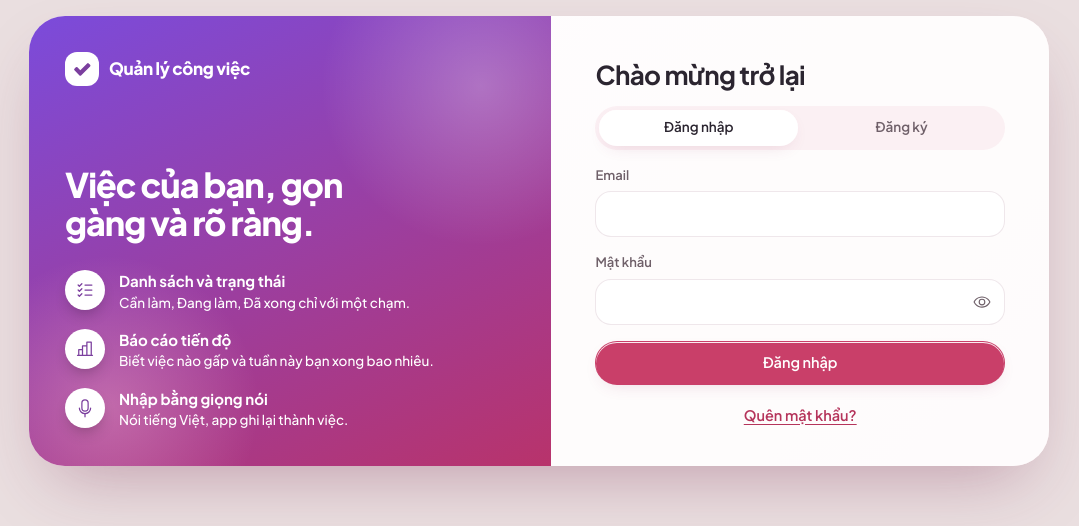
Test case: AuthPage › toggles password visibility
This screenshot has width=1079, height=526.
Click the button named "Hiện mật khẩu". click: (982, 302)
box: [965,285,999,319]
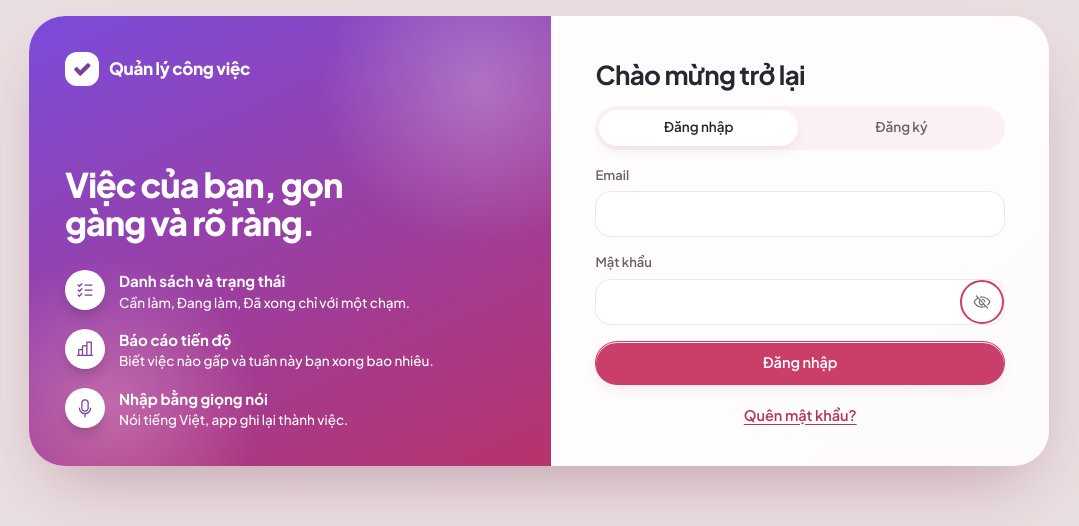
Check: the button named "Ẩn mật khẩu" is shown, box [965,285,999,319]
